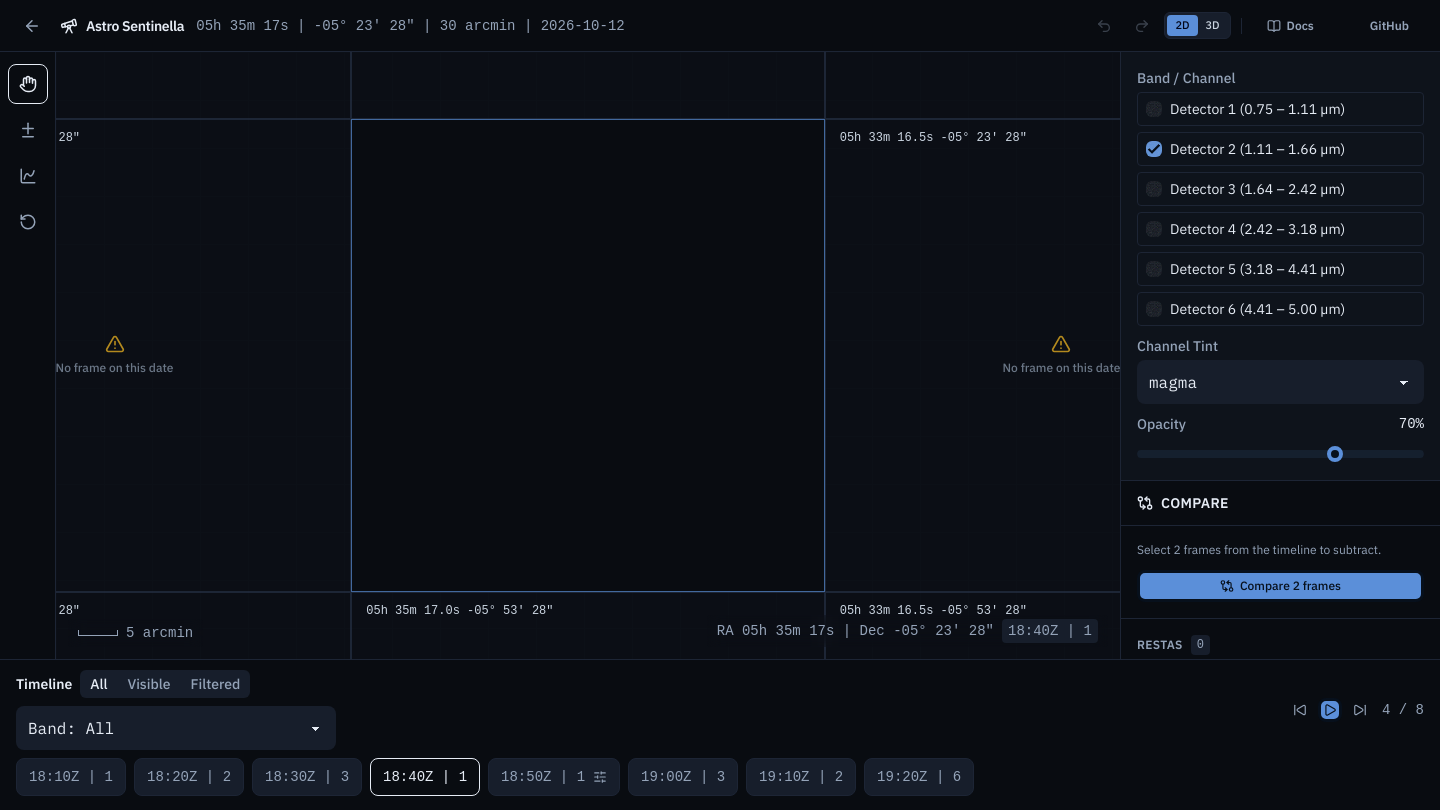
Scenario: ExplorerView › filters timeline frames by tab and band, and steps playback
Click the tab "Filtered": (215, 684) [182,672,248,696]
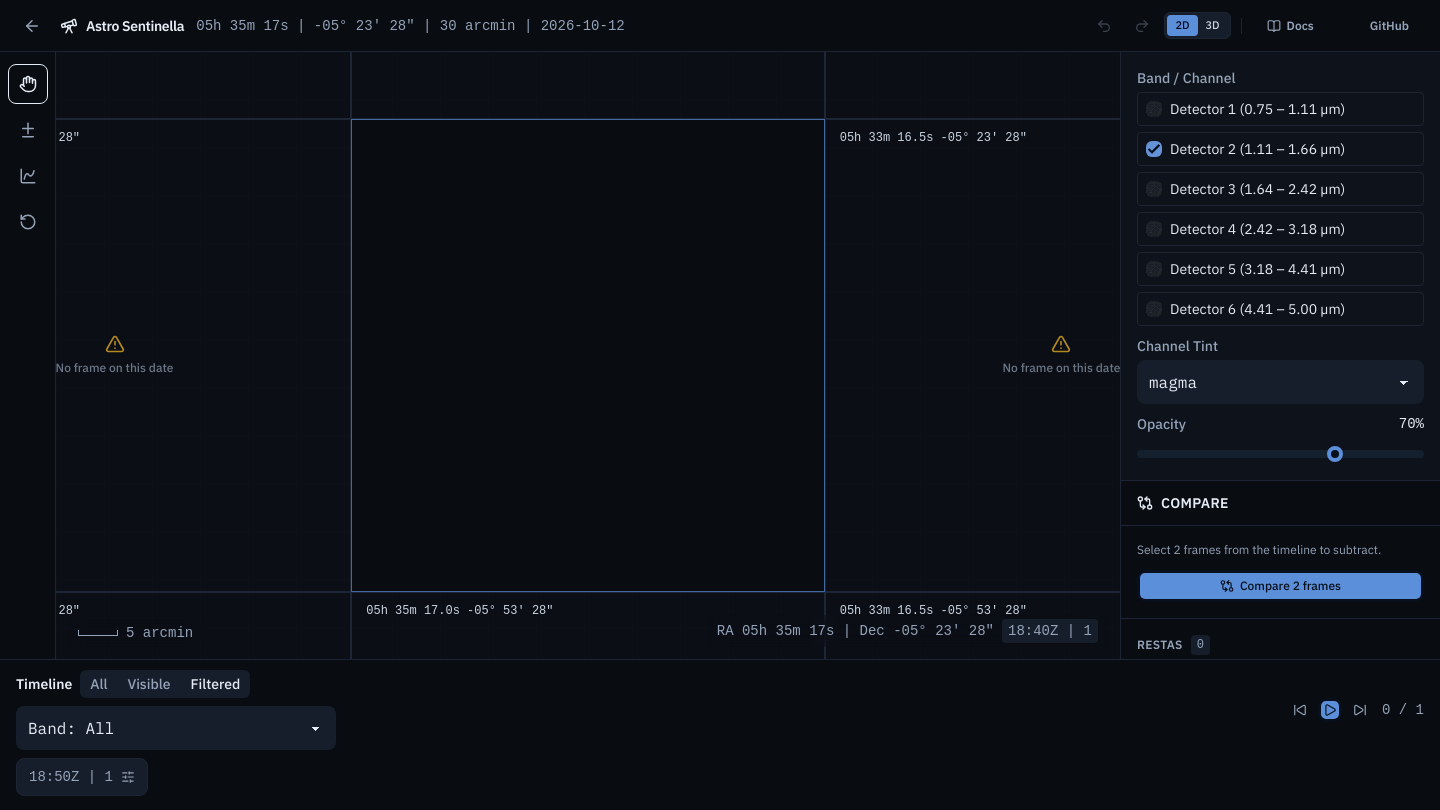
Expected: the text "18:50Z | 1" is shown, [29,767,113,787]
Expected: the text "18:10Z | 1" is not shown
Click the tab "All": (99, 684) [82,672,115,696]
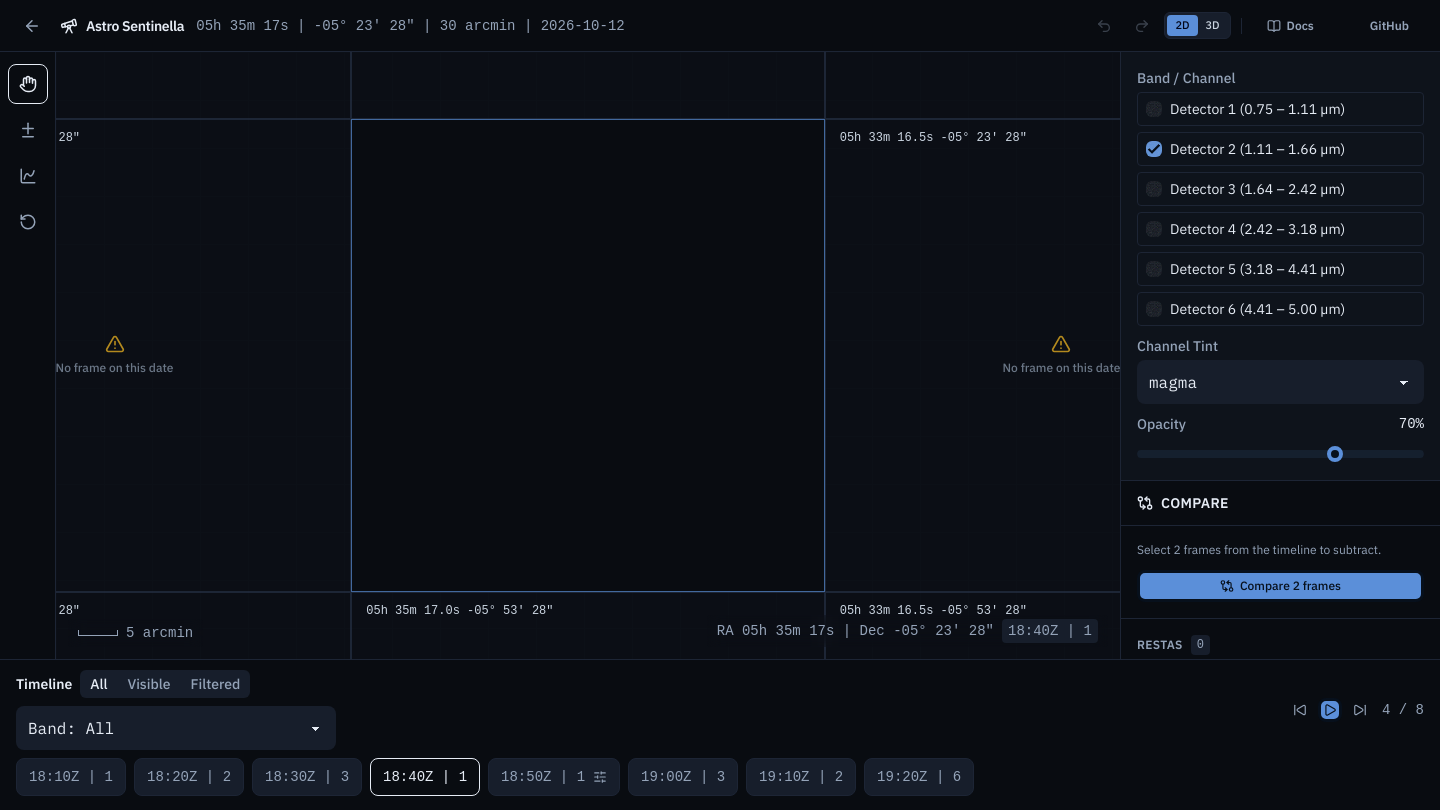
Select "Band: 3" in the dropdown named "Band: All": (176, 728) [16,706,336,750]
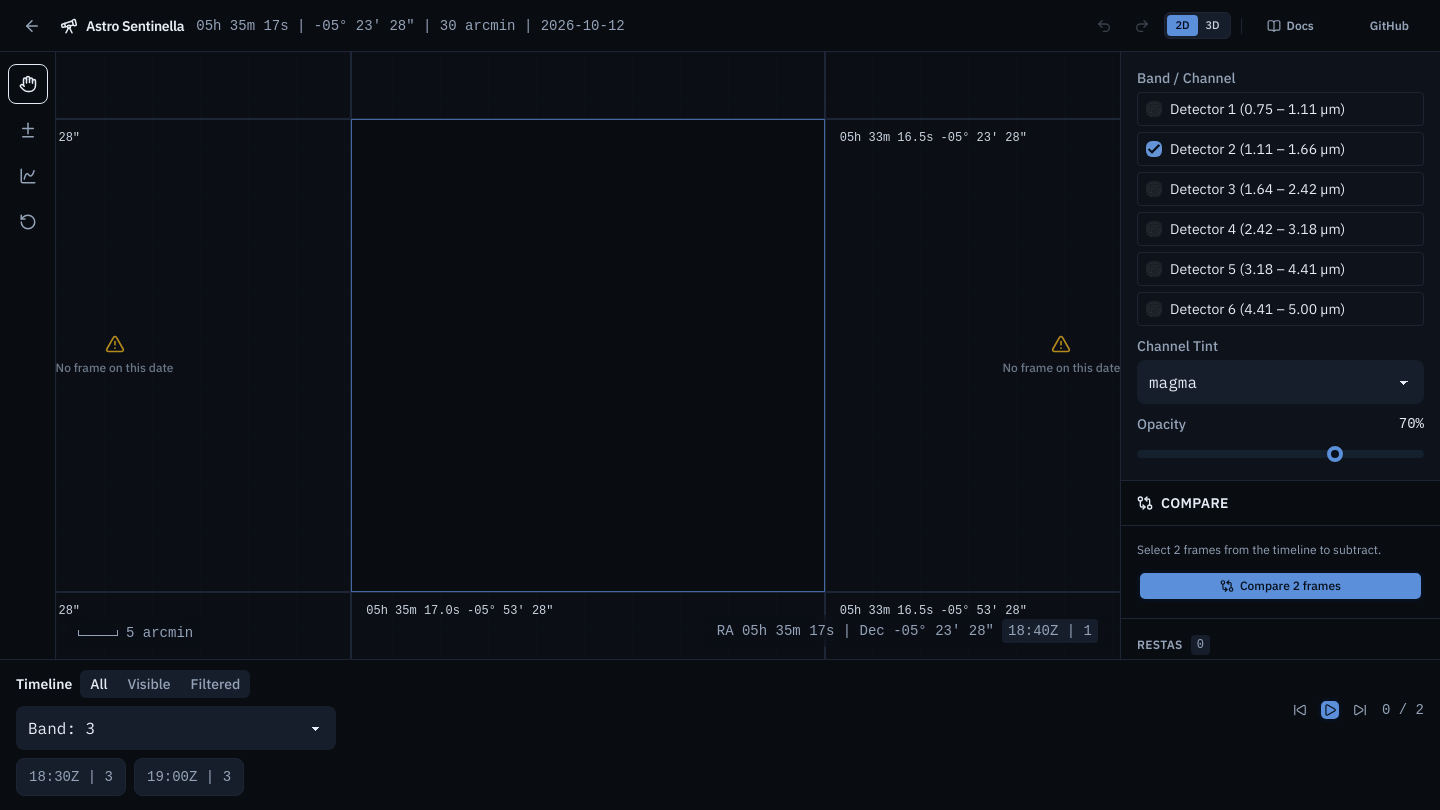
Now the text "18:30Z | 3" is shown, box [29,767,113,787]
Select "Band: All" in the dropdown named "Band: All": (176, 728) [16,706,336,750]
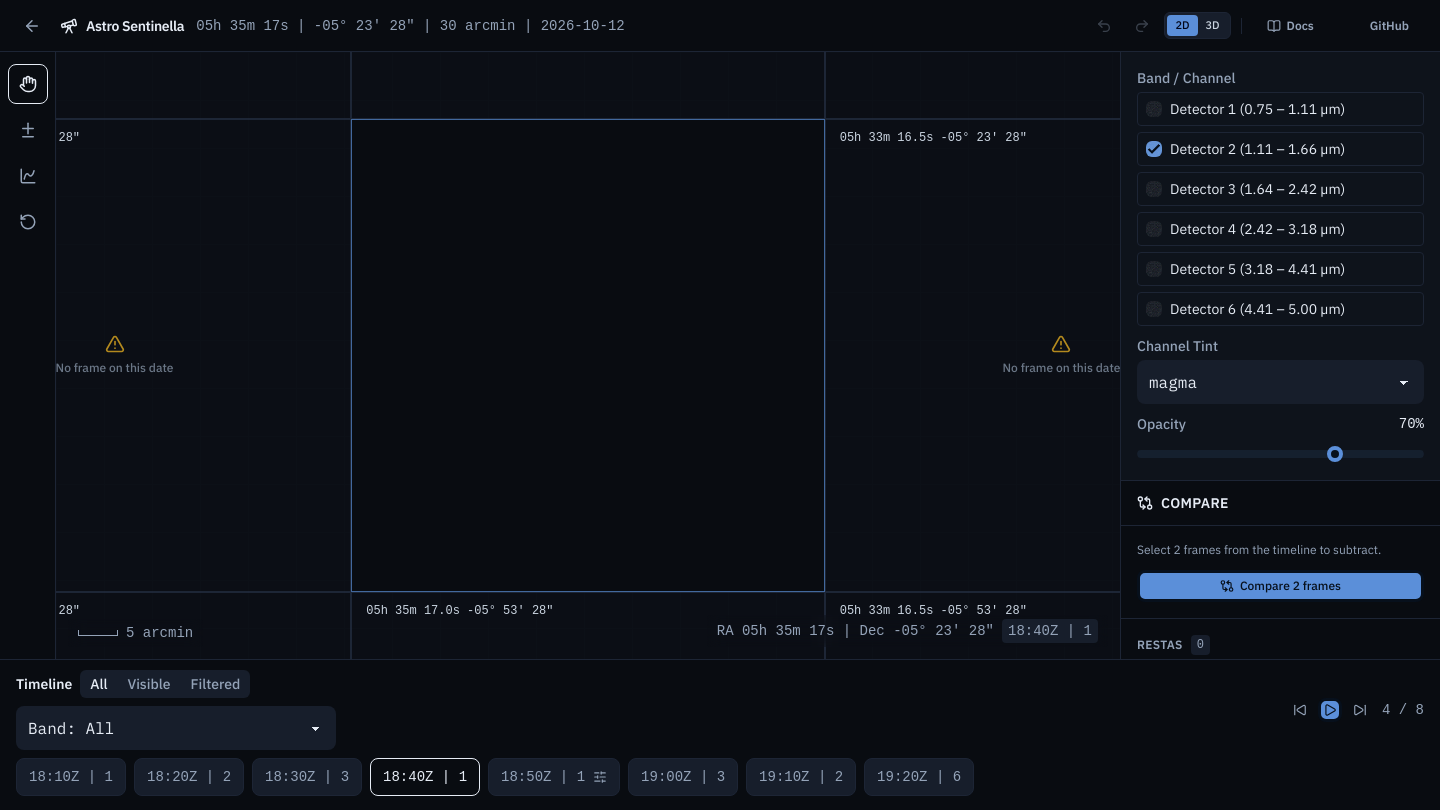
Click the button named "Next frame": (1360, 710) [1348,698,1372,722]
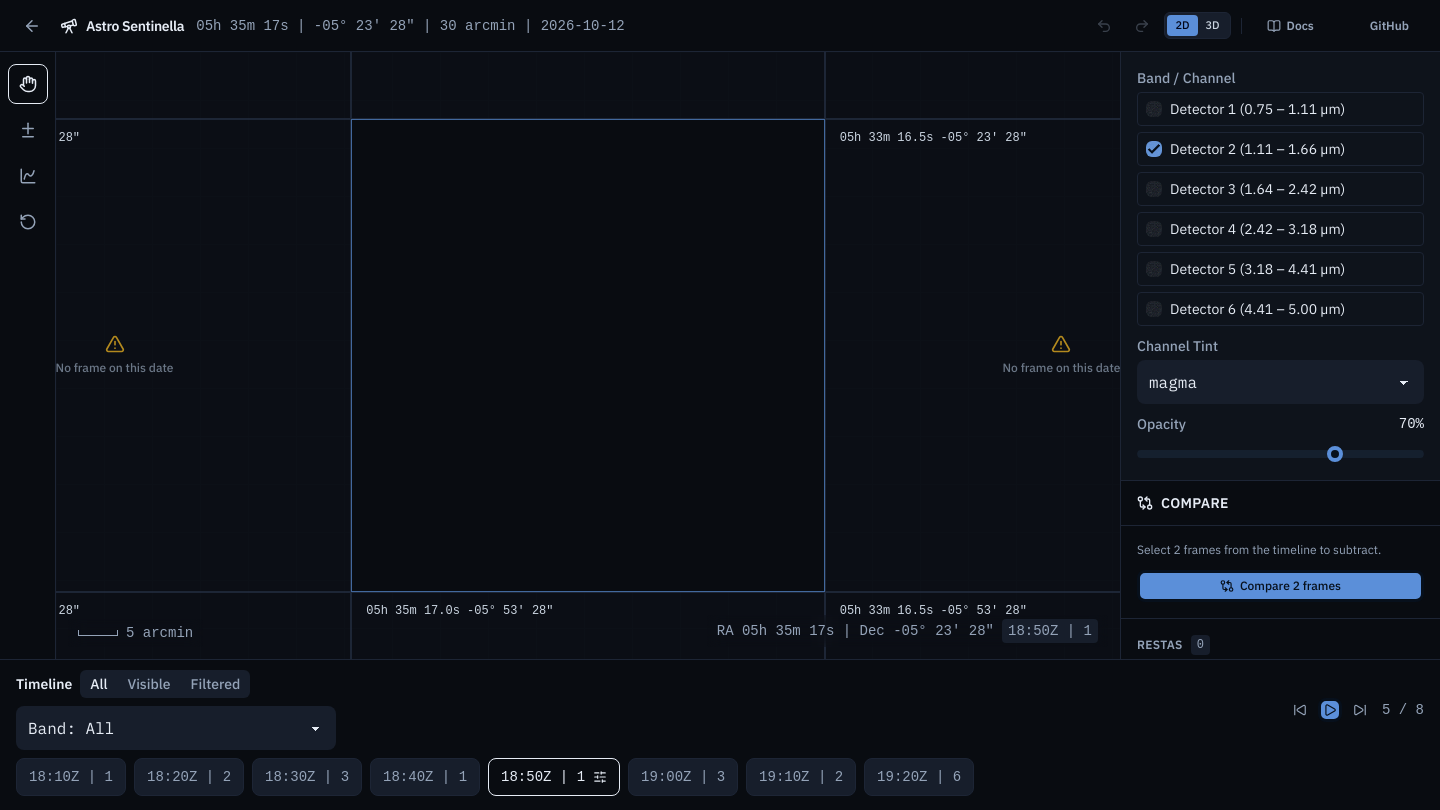
Now the text "5 / 8" is shown, box [1382,700,1424,720]
